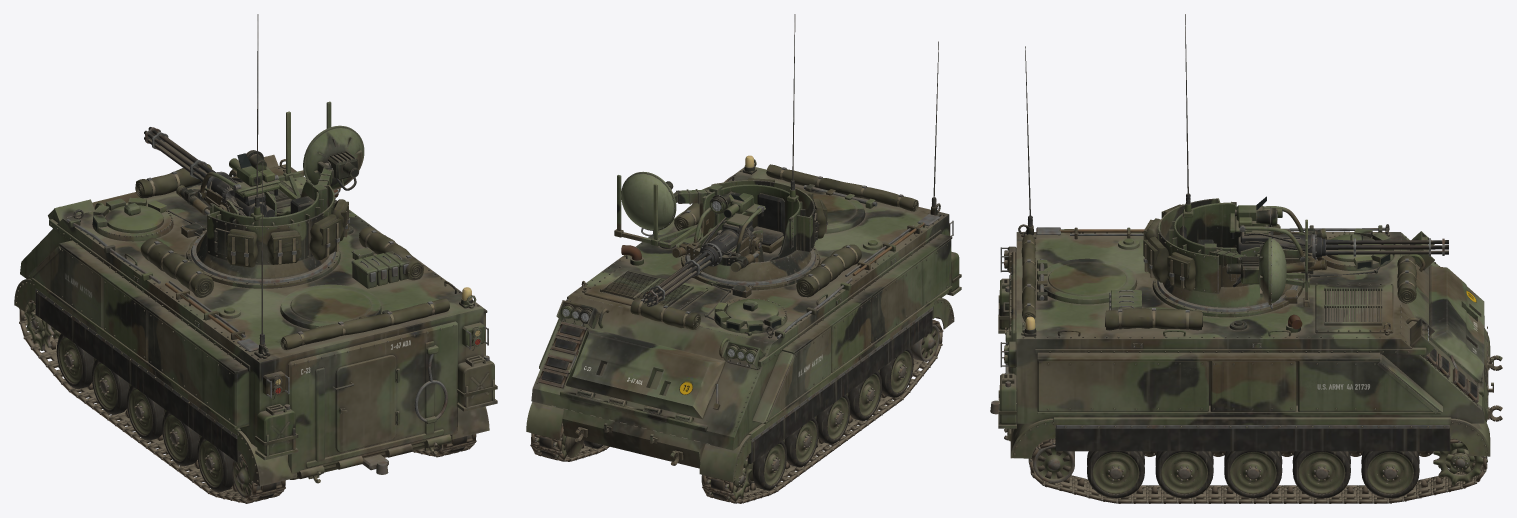
3 views of the same model, side by side, from view 1: azimuth 30°, elevation 25°; view 2: azimuth 150°, elevation 25°; view 3: azimuth 270°, elevation 25° (orthographic). The views are drawn at different scales.
Parts seen in each view (by area): view 1: body_detail, body_hull, body_pods, body_kit, turret_main, body_wheels, body_track, cradle_gun, turret_kit, dish_radar, turret_detail, body_hw (+4 smaller); view 2: body_hull, body_vane, body_pods, body_detail, turret_main, body_kit, body_wheels, body_track, cradle_gun, turret_detail, dish_radar, body_hw (+6 smaller); view 3: body_hull, body_pods, body_detail, body_wheels, turret_main, body_kit, body_track, body_vane, cradle_gun, dish_radar, turret_kit, body_hw (+5 smaller).
Boxes of the visible parts, left/top/right/bottom form: body_detail: left=48, top=154, right=497, bottom=483; body_hull: left=14, top=164, right=489, bottom=486; body_pods: left=28, top=240, right=487, bottom=428; body_kit: left=66, top=164, right=449, bottom=351; turret_main: left=186, top=179, right=340, bottom=288; body_wheels: left=56, top=334, right=233, bottom=491; body_track: left=19, top=300, right=476, bottom=503; cradle_gun: left=176, top=153, right=280, bottom=217; turret_kit: left=226, top=199, right=349, bottom=267; dish_radar: left=303, top=125, right=364, bottom=194; turret_detail: left=218, top=101, right=333, bottom=216; body_hw: left=15, top=159, right=478, bottom=482; body_hull: left=526, top=167, right=954, bottom=482; body_vane: left=537, top=321, right=725, bottom=431; body_pods: left=539, top=234, right=952, bottom=423; body_detail: left=556, top=41, right=961, bottom=369; turret_main: left=681, top=180, right=820, bottom=290; body_kit: left=630, top=164, right=939, bottom=338; body_wheels: left=583, top=348, right=913, bottom=490; body_track: left=530, top=319, right=943, bottom=503; cradle_gun: left=672, top=193, right=765, bottom=272; turret_detail: left=614, top=175, right=784, bottom=262; dish_radar: left=621, top=171, right=676, bottom=236; body_hw: left=536, top=159, right=953, bottom=478; body_hull: left=1010, top=232, right=1490, bottom=458; body_pods: left=1037, top=352, right=1442, bottom=414; body_detail: left=990, top=46, right=1434, bottom=441; body_wheels: left=1087, top=451, right=1419, bottom=498; turret_main: left=1152, top=198, right=1302, bottom=317; body_kit: left=1021, top=224, right=1416, bottom=330; body_track: left=1028, top=437, right=1487, bottom=503; body_vane: left=1424, top=265, right=1484, bottom=403; cradle_gun: left=1229, top=196, right=1326, bottom=272; dish_radar: left=1226, top=237, right=1286, bottom=309; turret_kit: left=1143, top=204, right=1195, bottom=290; body_hw: left=1010, top=224, right=1502, bottom=455.
Size of the model in its own units: 2.87 by 4.71 by 5.15.
Materials: 6 (3 with a texture image).
